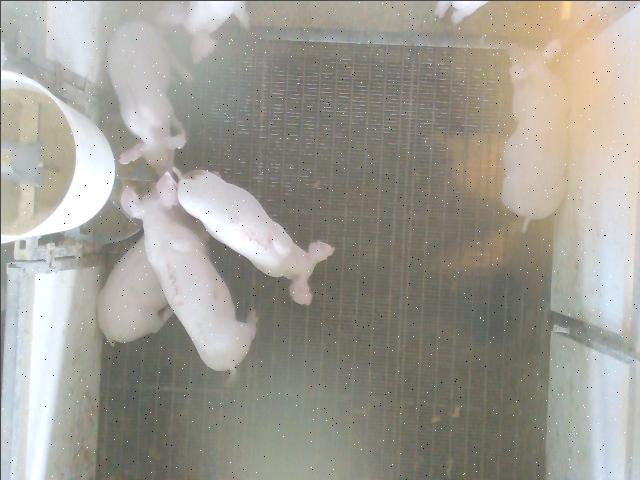pig-3: (120, 171, 256, 370)
pig-5: (172, 167, 334, 304)
